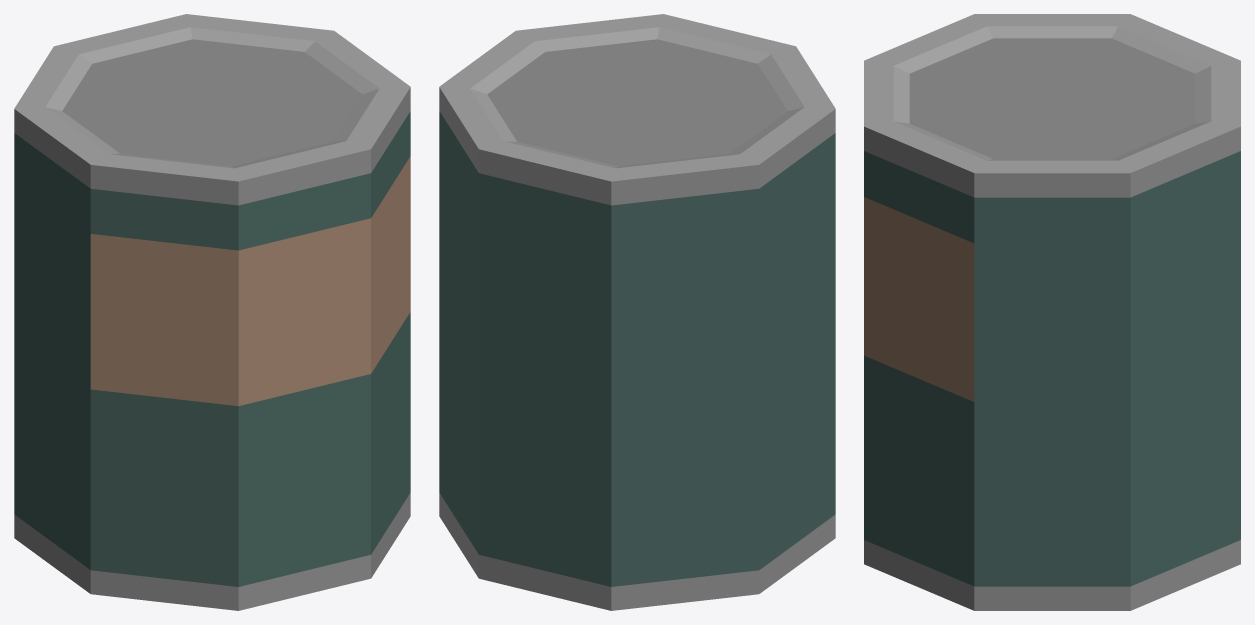
Rendered from SM_Food_CannedFood_05.fbx.
3 views of the same model, side by side, from view 1: azimuth 30°, elevation 25°; view 2: azimuth 150°, elevation 25°; view 3: azimuth 270°, elevation 25° (orthographic).
Parts seen in each view (by area): view 1: SM_Food_CannedFood_05; view 2: SM_Food_CannedFood_05; view 3: SM_Food_CannedFood_05.
Boxes of the visible parts, left/top/right/bottom form: SM_Food_CannedFood_05: left=14, top=14, right=410, bottom=610; SM_Food_CannedFood_05: left=439, top=14, right=835, bottom=610; SM_Food_CannedFood_05: left=864, top=14, right=1240, bottom=610.
Size of the model in its own units: 0.1156 by 0.1482 by 0.1156.
